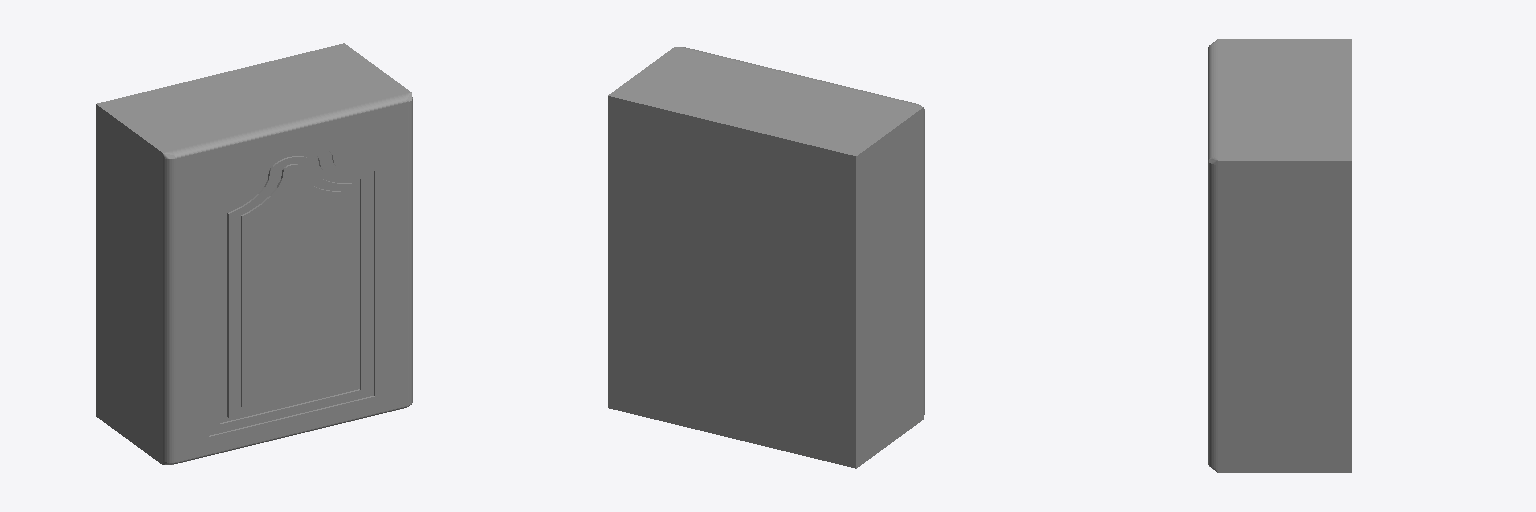
Rendered from single-wall-unit-600.obj.
3 views of the same model, side by side, from view 1: azimuth 30°, elevation 25°; view 2: azimuth 150°, elevation 25°; view 3: azimuth 270°, elevation 25° (orthographic).
Visible parts, largest first — view 1: Cube.003_Cube.008, Cube.002_Cube.004, Cube_Cube.002; view 2: Cube_Cube.002, Cube.002_Cube.004, Cube.001_Cube.003, Cube.003_Cube.008; view 3: Cube.001_Cube.003, Cube_Cube.002, Cube.003_Cube.008.
Boxes of the visible parts, x1=… form: Cube.003_Cube.008: x1=163, y1=92, x2=412, y2=464; Cube.002_Cube.004: x1=96, y1=102, x2=168, y2=464; Cube_Cube.002: x1=102, y1=45, x2=404, y2=150; Cube_Cube.002: x1=614, y1=48, x2=915, y2=466; Cube.002_Cube.004: x1=850, y1=106, x2=922, y2=468; Cube.001_Cube.003: x1=608, y1=47, x2=680, y2=409; Cube.003_Cube.008: x1=678, y1=47, x2=924, y2=419; Cube.001_Cube.003: x1=1218, y1=157, x2=1351, y2=472; Cube_Cube.002: x1=1218, y1=42, x2=1351, y2=156; Cube.003_Cube.008: x1=1208, y1=39, x2=1217, y2=472.
Size of the model in its own units: 120 by 144 by 60.